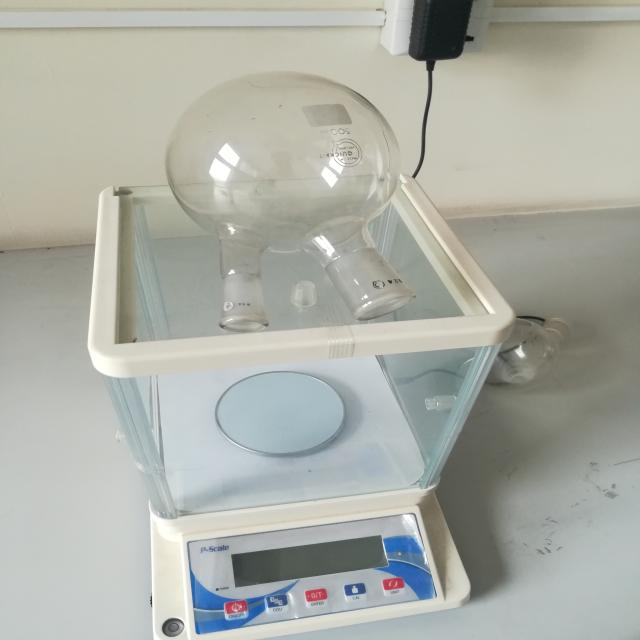Round_Bottom_Flask_Borosilicate_Glass_2_Neck: (114, 48, 500, 362)
